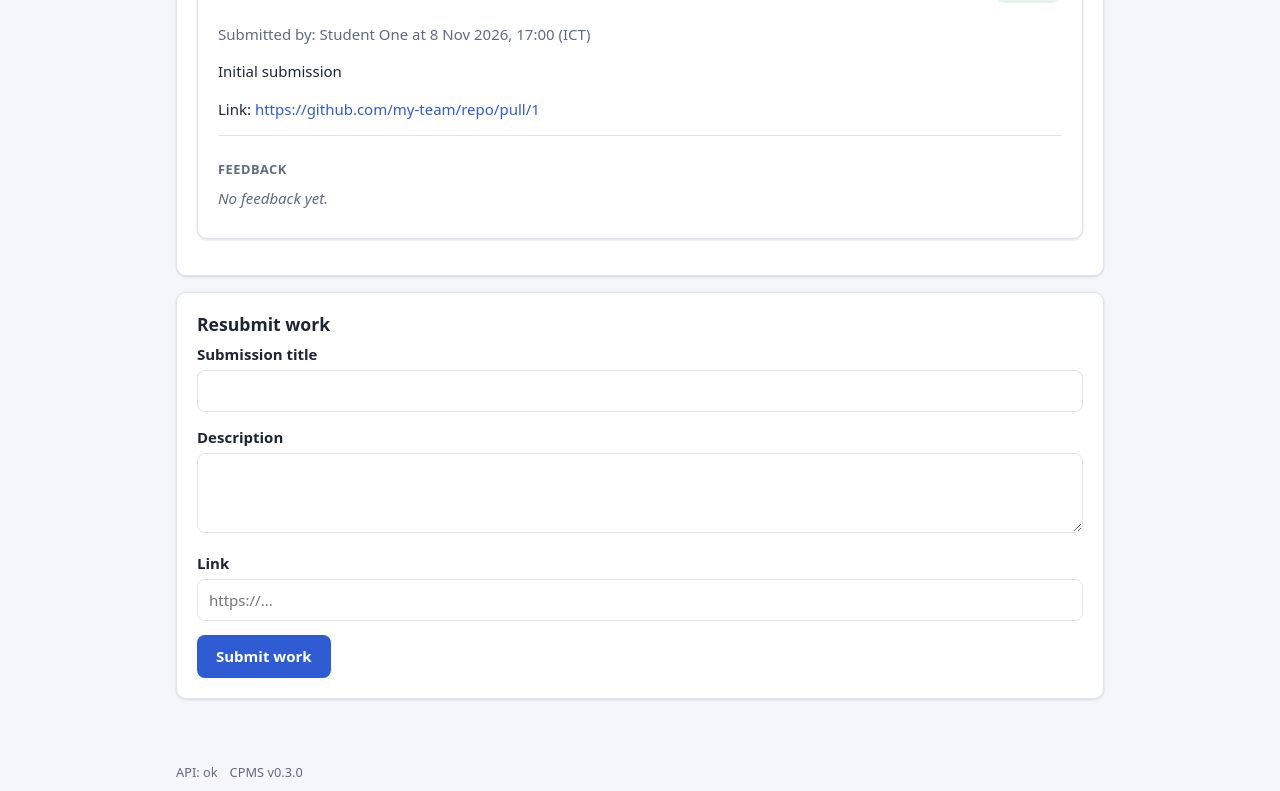
F-03 Submissions UI › TEST-03-24: server answers 409 SUBMISSION_WINDOW_CLOSED: message shown, form values kept
(page scrolled)
Type "Too late" into the field labelled "Submission title".
click(640, 391); type("Too late")  # box [197,370,1083,412]
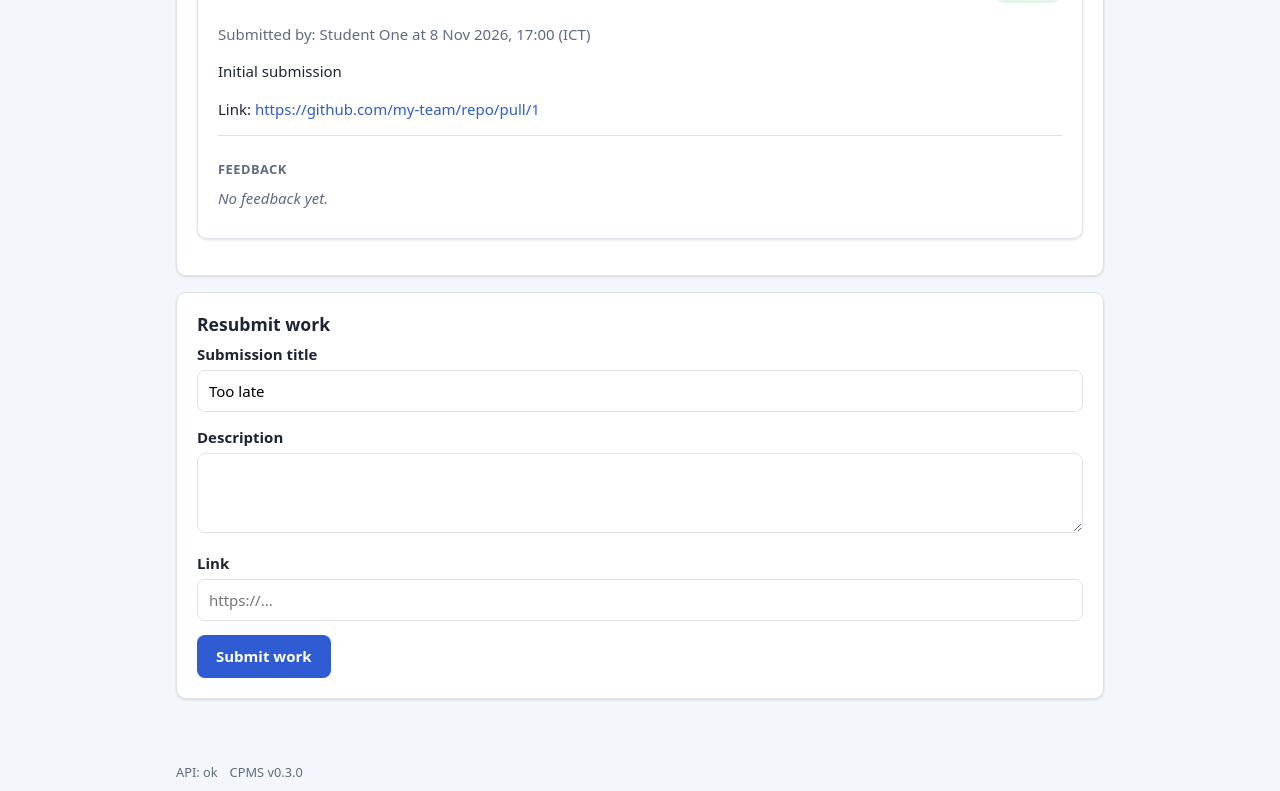
Type "https://example.com/too-late" into the field labelled "Link".
click(640, 600); type("https://example.com/too-late")  # box [197,579,1083,622]
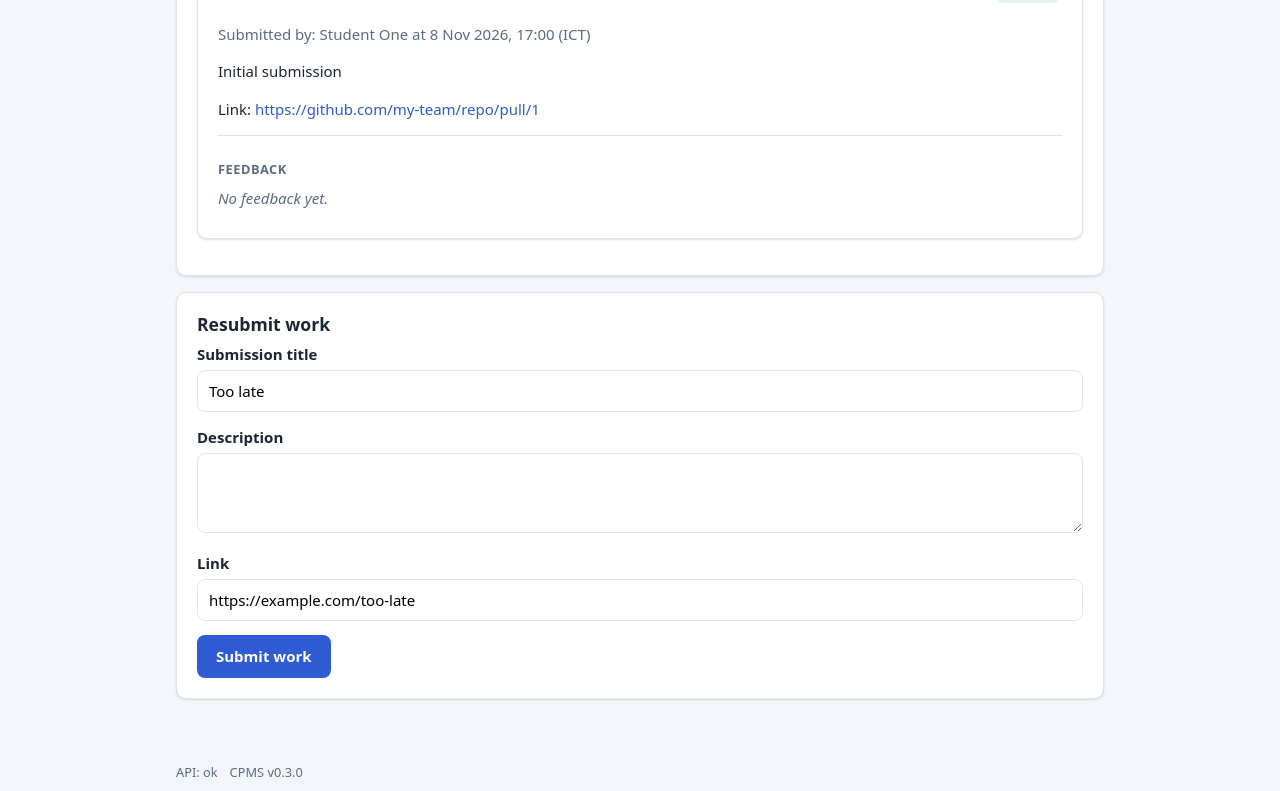
Click the button "Submit work".
click(264, 657)  # box [197,636,331,678]
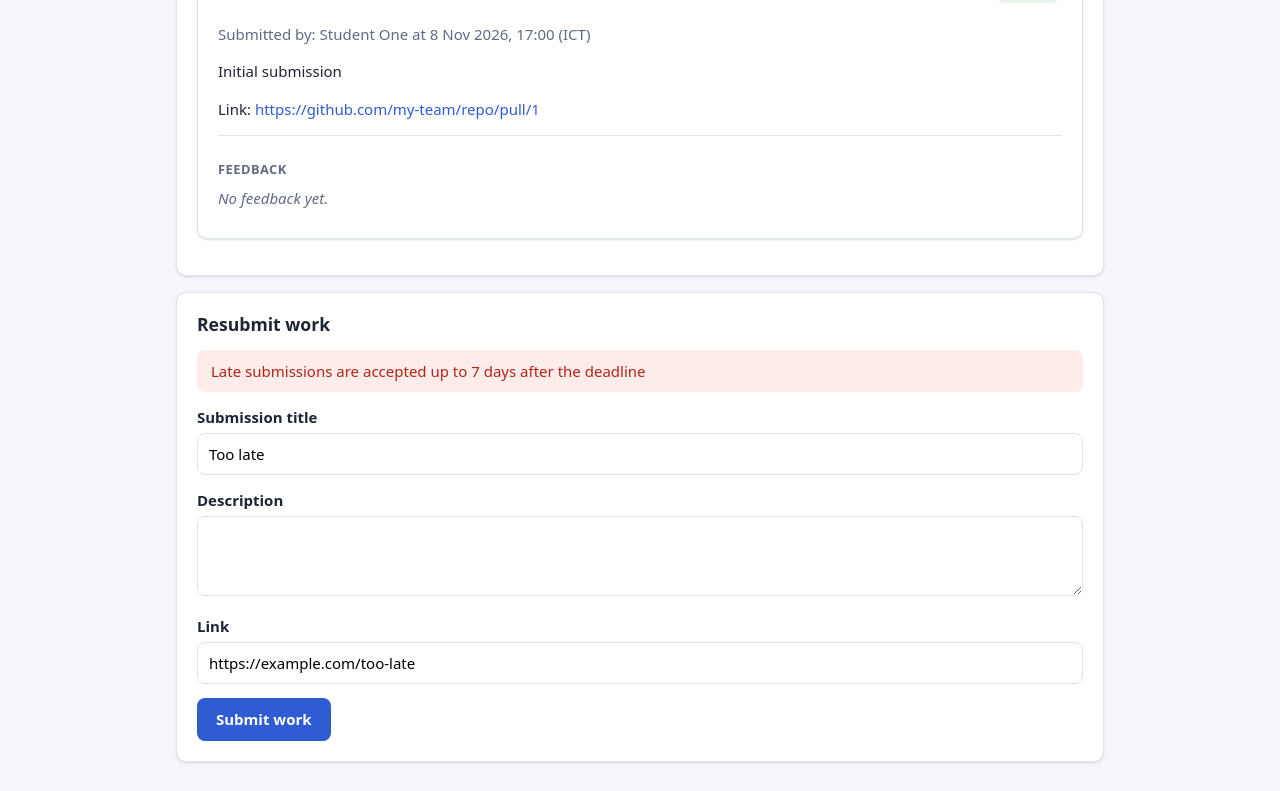
Result: the message reads "Late submissions are accepted up to 7 days after the deadline" at [211,361,646,381]
